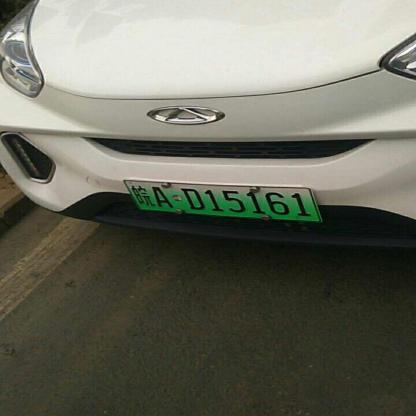lp: (125, 180, 320, 222)
